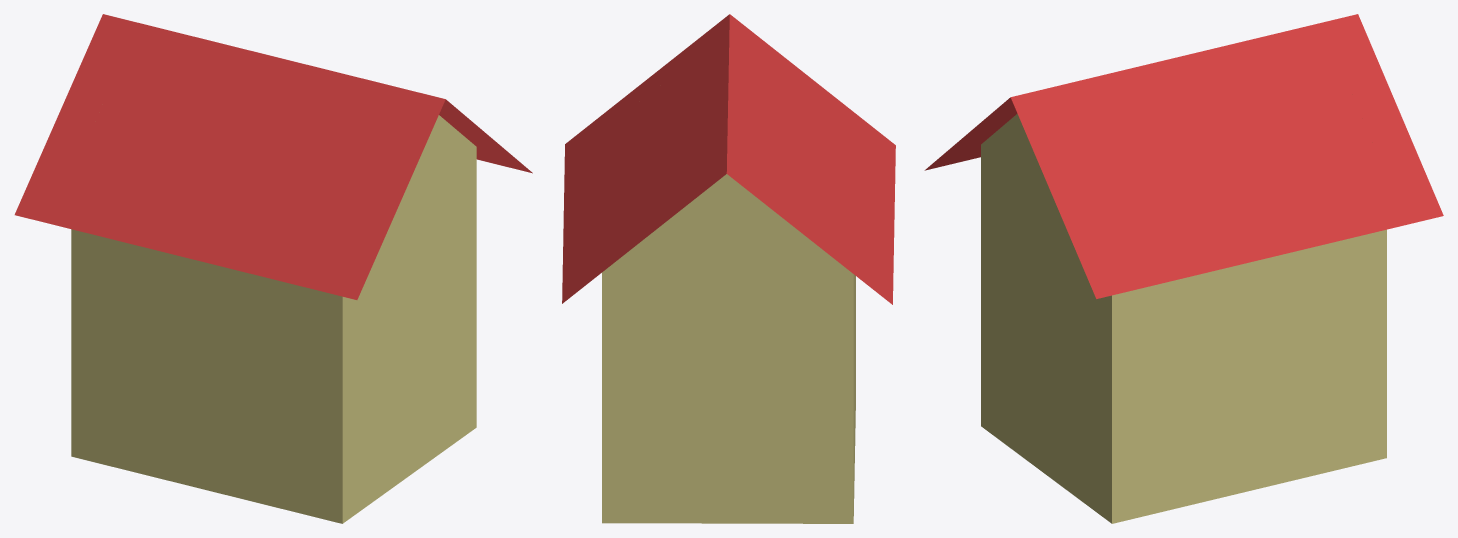
The picture shows the model from 3 angles, left to right: view 1: azimuth 30°, elevation 25°; view 2: azimuth 150°, elevation 25°; view 3: azimuth 270°, elevation 25°; orthographic projection. The views are drawn at different scales.
Bounding box in the file's own units: 12 × 12.46 × 10.23.
